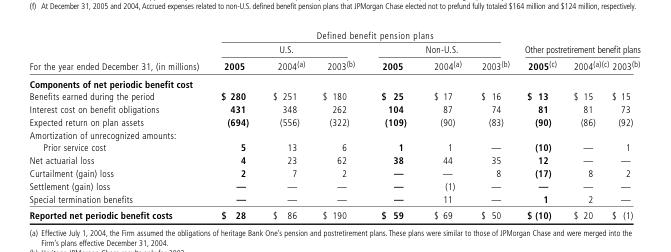table: (28, 29, 639, 220)
table column: (28, 29, 209, 220), (313, 29, 367, 220), (260, 29, 313, 220), (367, 29, 419, 220), (209, 29, 260, 220), (419, 29, 470, 220), (516, 29, 564, 220), (470, 29, 516, 220), (564, 29, 609, 220), (609, 29, 639, 220)
table column header: (28, 29, 639, 74)
table projected row header: (28, 74, 639, 89), (28, 128, 639, 140)
table row: (28, 56, 639, 74), (28, 41, 639, 56), (28, 74, 639, 89), (28, 191, 639, 206), (28, 206, 639, 220), (28, 89, 639, 102), (28, 102, 639, 115), (28, 115, 639, 128), (28, 140, 639, 153), (28, 153, 639, 166), (28, 166, 639, 179), (28, 29, 639, 41), (28, 128, 639, 140), (28, 179, 639, 191)
table spanning cell: (28, 29, 209, 74), (209, 29, 516, 41), (516, 29, 639, 56), (209, 41, 367, 56), (367, 41, 516, 56)
